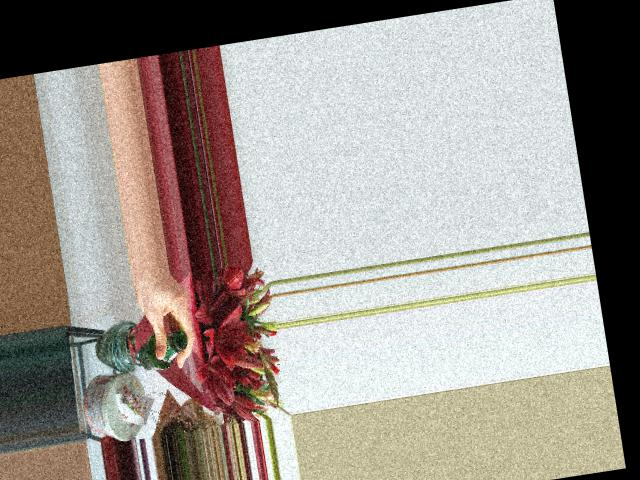beer: (135, 327, 190, 372)
